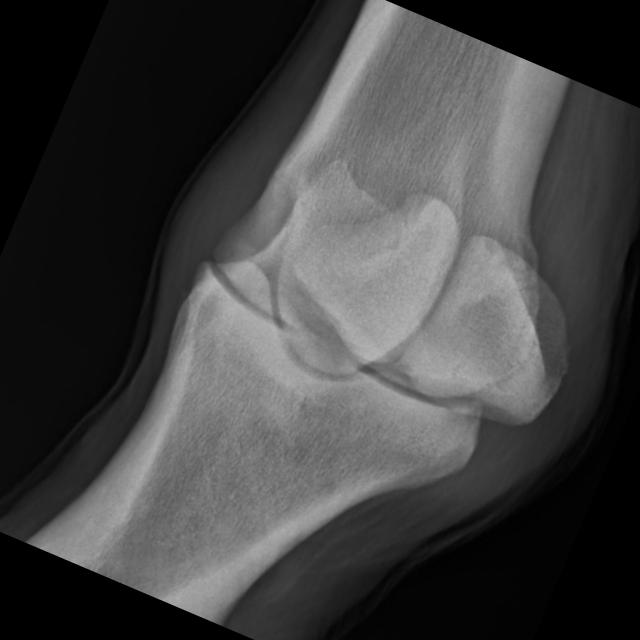bone remodeling: (174, 246, 234, 302)
